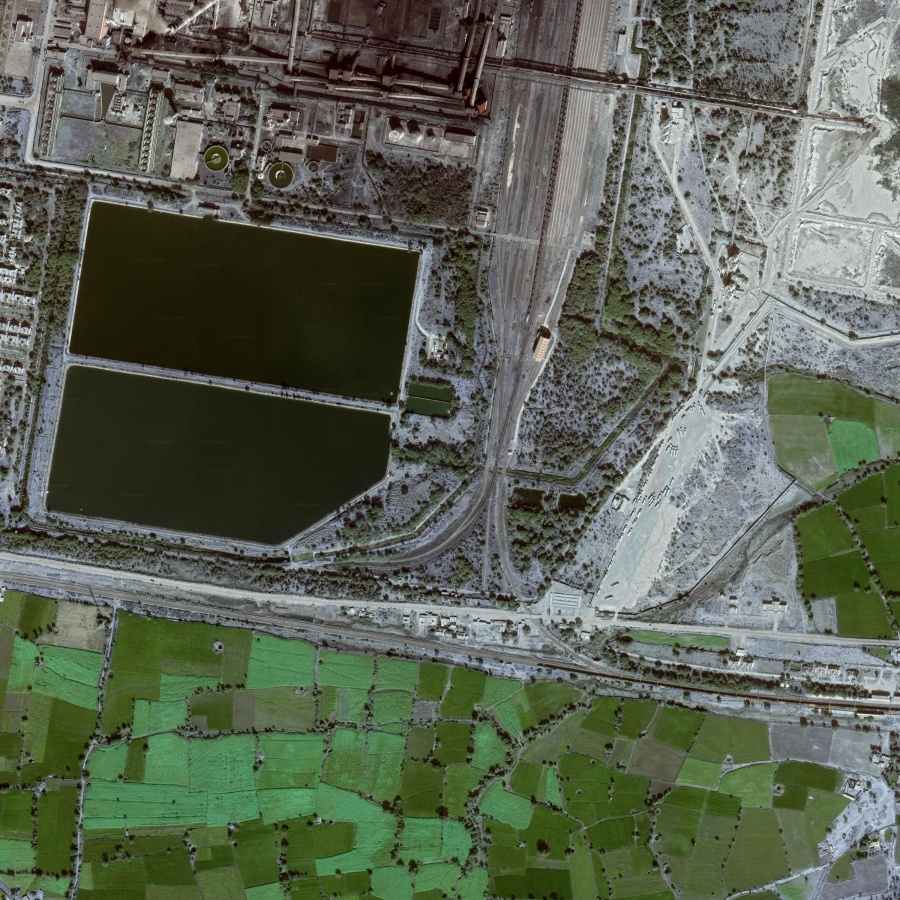PowerPlant: (17, 169, 437, 575)
